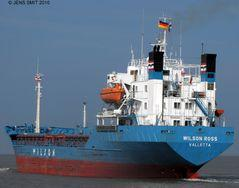Cargoship: (4, 16, 239, 179)
